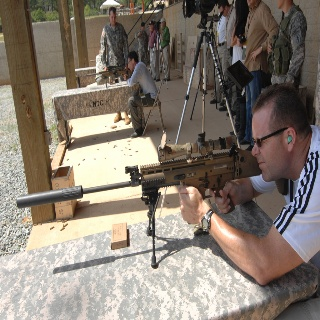rifle: (13, 131, 263, 271)
